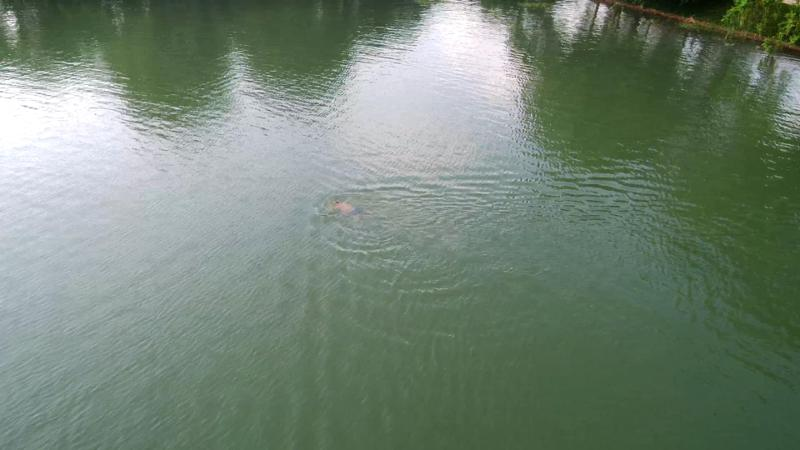swimmers: (328, 197, 362, 219)
